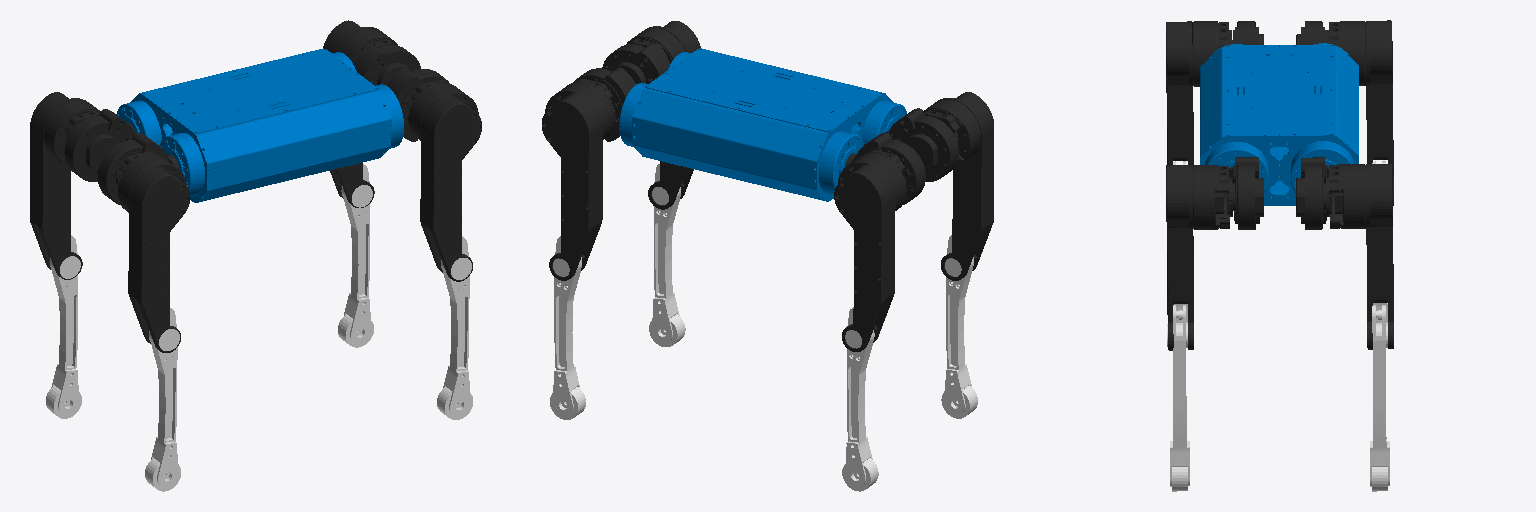
robot.urdf — canineV4:
<?xml version="1.0" ?>
<robot name="canineV4">
  
  <material name="blue">
    <color rgba="0.0 0.5 0.8 0.9"/>
  </material>
  
  <material name="black1">
    <color rgba="0.2 0.2 0.2 1"/>
  </material>
  
  <material name="white">
    <color rgba="0.9 0.9 0.9 0.5"/>
  </material>

  <link name="base">
    <visual>
      <origin rpy="0 0 0" xyz="0 0 0"/>
      <geometry>
        <box size="0.001 0.001 0.001"/>
      </geometry>
    </visual>
  </link>

  <joint name="floating_base" type="fixed">
    <origin rpy="0 0 0" xyz="0 0 0"/>
    <parent link="base"/>
    <child link="trunk"/>
  </joint>

  <link name="trunk">
    <inertial>
      <origin xyz="0.014339238801855274 0.0005227403404208719 -0.0014269636674238235" rpy="0 0 0"/>
      <mass value = "7.293"/>
      <inertia ixx = "0.0414613" ixy = "0" ixz = "0" iyx = "0" iyy = "0.0956574" iyz = "0" izx = "0" izy = "0" izz = "0.121322"/>
    </inertial>
    <visual>
      <origin xyz="0 0 0" rpy="0 0 0"/>
      <geometry>
        <mesh filename="../meshes/base_link.stl" scale="0.001 0.001 0.001"/>
      </geometry>
      <material name="blue"/>
    </visual>
    <collision>
      <origin xyz="0 0 -0.011" rpy="0 0 0"/>
      <geometry>
        <box size= "0.38 0.235 0.131"/>
      </geometry>
    </collision>
  </link>
  
<!--Front Left-->
  <link name="FL_hip">
    <inertial>
      <origin xyz="0.058975220413676505 -0.016130924422260128 -9.470708630414767e-05" rpy="0 0 0"/>
      <mass value = "0.7498"/>
      <inertia ixx = "0.000564293" iyy = "0.00108156" izz = "0.000706237" ixy = "3.9187e-05" iyz = "2.61247e-06" ixz = "0"/>
    </inertial>
    <visual>
      <origin xyz="-0.185613 -0.065216 -0.000494" rpy="0 0 0"/>
      <geometry>
        <mesh filename="../meshes/FL_Hip_1.stl" scale="0.001 0.001 0.001"/>
      </geometry>
      <material name="black1"/>
    </visual>
    <collision>
      <origin xyz="-0.185613 -0.065216 -0.000494" rpy="0 0 0"/>
      <geometry>
        <mesh filename="../meshes/FL_Hip_1.obj" scale="0.001 0.001 0.001"/>
      </geometry>
    </collision>
  </link>

  <link name="FL_thigh">
    <inertial>
      <origin xyz="-0.005295476492297502 0.055863741051553104 -0.02739556562567192" rpy="0 0 0"/>
      <mass value = "1.6223"/>
      <inertia ixx = "0.00754088" iyy = "0.00733144" izz = "0.00206749" ixy = "0.000208444" iyz = "0.0013115" ixz = "-0.000668218"/>
    </inertial>
    <visual>
      <origin xyz="-0.256107 -0.058095 -0.000475" rpy="0 0 0"/>
      <geometry>
        <mesh filename="../meshes/FL_thigh_1.stl" scale="0.001 0.001 0.001"/>
      </geometry>
      <material name="black1"/>
    </visual>
    <collision>
      <origin xyz="0 0.084 -0.23" rpy="1.57079632679 0 0"/>
      <geometry>
        <cylinder length="0.019" radius="0.015"/>
      </geometry>
    </collision>
  </link>

  <link name="FL_calf">
    <inertial>
      <origin xyz="0.00031304711228058446 0.018663901688305173 -0.11805864385255102" rpy="0 0 0"/>
      <mass value = "0.4049"/>
      <inertia ixx = "0.00415323" iyy = "0.00417183" izz = "7.25698e-05" ixy = "9.30382e-07" iyz = "2.51203e-05" ixz = "-7.44306e-05"/>
    </inertial>
    <visual>
      <origin xyz="0.256221 0.1424 0.230545" rpy="0 0 0"/>
      <geometry>
        <mesh filename="../meshes/HR_calf_1.stl" scale="0.001 0.001 0.001"/>
      </geometry>
      <material name="white"/>
    </visual>
    <collision>
      <origin xyz="0 0 -0.23" rpy="1.57079632679 0 0"/>
      <geometry>
        <cylinder length="0.024" radius="0.025"/>
      </geometry>
    </collision>
  </link>
  
<!--  Front Right -->
  <link name="FR_hip">
    <inertial>
      <origin xyz="0.059030654145396516 0.015927423670200135 9.247774957795986e-05" rpy="0 0 0"/>
      <mass value = "0.7498"/>
      <inertia ixx = "0.000564293" iyy = "0.00108156" izz = "0.000706237" ixy = "3.9187e-05" iyz = "2.61247e-06" ixz = "0"/>
    </inertial>
    <visual>
      <origin xyz="-0.185389 0.06478 0.000488" rpy="0 0 0"/>
      <geometry>
        <mesh filename="../meshes/FR_Hip_1.stl" scale="0.001 0.001 0.001"/>
      </geometry>
      <material name="black1"/>
    </visual>
    <collision>
      <origin xyz="-0.185389 0.06478 0.000488" rpy="0 0 0"/>
      <geometry>
        <mesh filename="../meshes/FR_Hip_1.obj" scale="0.001 0.001 0.001"/>
      </geometry>
    </collision>
  </link>
  
  <link name="FR_thigh">
    <inertial>
      <origin xyz="-0.0054874276469241146 -0.055519109948595644 -0.028025753197478204" rpy="0 0 0"/>
      <mass value = "1.6223"/>
      <inertia ixx = "0.00754088" iyy = "0.00733144" izz = "0.00206749" ixy = "0.000208444" iyz = "0.0013115" ixz = "-0.000668218"/>
    </inertial>
    <visual>
      <origin xyz="-0.255894 0.057902 0.000472" rpy="0 0 0"/>
      <geometry>
        <mesh filename="../meshes/FR_thigh_1.stl" scale="0.001 0.001 0.001"/>
      </geometry>
      <material name="black1"/>
    </visual>
    <collision>
      <origin xyz="0 -0.084 -0.23" rpy="1.57079632679 0 0"/>
      <geometry>
        <cylinder length="0.019" radius="0.015"/>
      </geometry>
    </collision>
  </link>
  
  <link name="FR_calf">
    <inertial>
      <origin xyz="-0.0018108281142471538 -0.017331701500681695 -0.11825587817029126" rpy="0 0 0"/>
      <mass value = "0.4049"/>
      <inertia ixx = "0.00415323" iyy = "0.00417183" izz = "7.25698e-05" ixy = "9.30382e-07" iyz = "2.51203e-05" ixz = "-7.44306e-05"/>

    </inertial>
    <visual>
      <origin xyz="0.256221 0.1424 0.230545" rpy="0 0 0"/>
      <geometry>
        <mesh filename="../meshes/HR_calf_1.stl" scale="0.001 0.001 0.001"/>
      </geometry>
      <material name="white"/>
    </visual>
    <collision>
      <origin xyz="0 0 -0.23" rpy="1.57079632679 0 0"/>
      <geometry>
        <cylinder length="0.024" radius="0.025"/>
      </geometry>
    </collision>
  </link>
 
<!--  Hind Left-->
  <link name="HL_hip">
    <inertial>
      <origin xyz="-0.05903082809440047 -0.01592734296849691 -9.238738722284502e-05" rpy="0 0 0"/>
      <mass value = "0.7498"/>
      <inertia ixx = "0.000564293" iyy = "0.00108156" izz = "0.000706237" ixy = "3.9187e-05" iyz = "2.61247e-06" ixz = "0"/>
    </inertial>
    <visual>
      <origin xyz="0.185387 -0.065854 -0.000501" rpy="0 0 0"/>
      <geometry>
        <mesh filename="../meshes/HL_Hip_1.stl" scale="0.001 0.001 0.001"/>
      </geometry>
      <material name="black1"/>
    </visual>
    <collision>
      <origin xyz="0.185387 -0.065854 -0.000501" rpy="0 0 0"/>
      <geometry>
        <mesh filename="../meshes/HL_Hip_1.obj" scale="0.001 0.001 0.001"/>
      </geometry>
    </collision>
  </link>

  <link name="HL_thigh">
    <inertial>
      <origin xyz="-0.0043479246699852925 0.055862527145962446 -0.027440966657779627" rpy="0 0 0"/>
      <mass value = "1.6223"/>
      <inertia ixx = "0.00754088" iyy = "0.00733144" izz = "0.00206749" ixy = "0.000208444" iyz = "0.0013115" ixz = "-0.000668218"/>
    </inertial>
    <visual>
      <origin xyz="0.255892 -0.058976 -0.000485" rpy="0 0 0"/>
      <geometry>
        <mesh filename="../meshes/HL_thigh_1.stl" scale="0.001 0.001 0.001"/>
      </geometry>
      <material name="black1"/>
    </visual>
    <collision>
      <origin xyz="0 0.084 -0.23" rpy="1.57079632679 0 0"/>
      <geometry>
        <cylinder length="0.019" radius="0.015"/>
      </geometry>
    </collision>
  </link>
  
  <link name="HL_calf">
    <inertial>
      <origin xyz="0.004436553462955517 0.018656478060602333 -0.11797708805343396" rpy="0 0 0"/>
      <mass value = "0.4049"/>
      <inertia ixx = "0.00415323" iyy = "0.00417183" izz = "7.25698e-05" ixy = "9.30382e-07" iyz = "2.51203e-05" ixz = "-7.44306e-05"/>
    </inertial>
    <visual>
      <origin xyz="0.256221 0.1424 0.230545" rpy="0 0 0"/>
      <geometry>
        <mesh filename="../meshes/HR_calf_1.stl" scale="0.001 0.001 0.001"/>
      </geometry>
      <material name="white"/>
    </visual>
    <collision>
      <origin xyz="0 0 -0.23" rpy="1.57079632679 0 0"/>
      <geometry>
        <cylinder length="0.024" radius="0.025"/>
      </geometry>
    </collision>
  </link>
  
<!--  Hind Right -->
  <link name="HR_hip">
    <inertial>
      <origin xyz="-0.05897539437436458 0.016131005161887584 9.480463785772582e-05" rpy="0 0 0"/>
      <mass value = "0.7498"/>
      <inertia ixx = "0.000564293" iyy = "0.00108156" izz = "0.000706237" ixy = "3.9187e-05" iyz = "2.61247e-06" ixz = "0"/>
    </inertial>
    <visual>
      <origin xyz="0.185611 0.064142 0.000481" rpy="0 0 0"/>
      <geometry>
        <mesh filename="../meshes/HR_Hip_1.stl" scale="0.001 0.001 0.001"/>
      </geometry>
      <material name="black1"/>
    </visual>
    <collision>
      <origin xyz="0.185611 0.064142 0.000481" rpy="0 0 0"/>
      <geometry>
        <mesh filename="../meshes/HR_Hip_1.obj" scale="0.001 0.001 0.001"/>
      </geometry>
    </collision>
  </link>
  
  <link name="HR_thigh">
    <inertial>
      <origin xyz="-0.004502314615021097 -0.05548927838716084 -0.027817895991566484" rpy="0 0 0"/>
      <mass value = "1.6223"/>
      <inertia ixx = "0.00754088" iyy = "0.00733144" izz = "0.00206749" ixy = "0.000208444" iyz = "0.0013115" ixz = "-0.000668218"/>
    </inertial>
    <visual>
      <origin xyz="0.256105 0.05702 0.000462" rpy="0 0 0"/>
      <geometry>
        <mesh filename="../meshes/HR_thigh_1.stl" scale="0.001 0.001 0.001"/>
      </geometry>
      <material name="black1"/>
    </visual>
    <collision>
      <origin xyz="0 -0.084 -0.23" rpy="1.57079632679 0 0"/>
      <geometry>
        <cylinder length="0.024" radius="0.025"/>
      </geometry>
    </collision>
  </link>
  
  <link name="HR_calf">
    <inertial>
      <origin xyz="0.002302575792990591 -0.017335752937394422 -0.11753324247330965" rpy="0 0 0"/>
      <mass value = "0.3639"/>
      <inertia ixx = "0.00373267" iyy = "0.0037494" izz = "6.52214e-05" ixy = "8.36172e-07" iyz = "2.25766e-05" ixz = "-6.68938e-05"/>
    </inertial>
    <visual>
      <origin xyz="0.256221 0.1424 0.230545" rpy="0 0 0"/>
      <geometry>
        <mesh filename="../meshes/HR_calf_1.stl" scale="0.001 0.001 0.001"/>
      </geometry>
      <material name="white"/>
    </visual>
    <collision>
      <origin xyz="0 0 -0.23" rpy="1.57079632679 0 0"/>
      <geometry>
        <cylinder length="0.024" radius="0.025"/>
      </geometry>
    </collision>
  </link>
  
<!--  joint -->
  <joint name="FL_HIP" type="revolute">
    <origin xyz="0.185 0.065 0.0" rpy="0 0 0"/>
    <parent link="trunk"/>
    <child link="FL_hip"/>
    <axis xyz="1 0 0"/>
  </joint>
  
  <joint name="FL_THIGH" type="revolute">
    <origin xyz="0.07 -0.003 0.0" rpy="0 0 0"/>
    <parent link="FL_hip"/>
    <child link="FL_thigh"/>
    <axis xyz="0 1 0"/>
  </joint>
  
  <joint name="FL_KNEE" type="revolute">
    <origin xyz="0 0.088 -0.23" rpy="0 0 0"/>
    <parent link="FL_thigh"/>
    <child link="FL_calf"/>
    <axis xyz="0 1 0"/>
  </joint>
  
  <joint name="FR_HIP" type="revolute">
    <origin xyz="0.185 -0.065 0.0" rpy="0 0 0"/>
    <parent link="trunk"/>
    <child link="FR_hip"/>
    <axis xyz="1 0 0"/>
  </joint>
  
  <joint name="FR_THIGH" type="revolute">
    <origin xyz="0.07 0.003 0.0" rpy="0 0 0"/>
    <parent link="FR_hip"/>
    <child link="FR_thigh"/>
    <axis xyz="0 1 0"/>
  </joint>
  
  <joint name="FR_KNEE" type="revolute">
    <origin xyz="0 -0.088 -0.23" rpy="0 0 0"/>
    <parent link="FR_thigh"/>
    <child link="FR_calf"/>
    <axis xyz="0 1 0"/>
  </joint>
  
  <joint name="HL_HIP" type="revolute">
    <origin xyz="-0.185 0.065 0.0" rpy="0 0 0"/>
    <parent link="trunk"/>
    <child link="HL_hip"/>
    <axis xyz="1 0 0"/>
  </joint>
  
  <joint name="HL_THIGH" type="revolute">
    <origin xyz="-0.07 -0.003 0.0" rpy="0 0 0"/>
    <parent link="HL_hip"/>
    <child link="HL_thigh"/>
    <axis xyz="0 1 0"/>
  </joint>
  
  <joint name="HL_KNEE" type="revolute">
    <origin xyz="0 0.088 -0.23" rpy="0 0 0"/>
    <parent link="HL_thigh"/>
    <child link="HL_calf"/>
    <axis xyz="0 1 0"/>
  </joint>

  <joint name="HR_HIP" type="revolute">
    <origin xyz="-0.185 -0.065 0.0" rpy="0 0 0"/>
    <parent link="trunk"/>
    <child link="HR_hip"/>
    <axis xyz="1 0 0"/>
  </joint>

  <joint name="HR_THIGH" type="revolute">
    <origin xyz="-0.07 0.003 0.0" rpy="0 0 0"/>
    <parent link="HR_hip"/>
    <child link="HR_thigh"/>
    <axis xyz="0 1 0"/>
  </joint>

  <joint name="HR_KNEE" type="revolute">
    <origin xyz="0 -0.088 -0.23" rpy="0 0 0"/>
    <parent link="HR_thigh"/>
    <child link="HR_calf"/>
    <axis xyz="0 1 0"/>
  </joint>
</robot>

--- Render facts (derived) ---
Views: 3 orthographic renders of the robot side by side, from view 1: azimuth 30°, elevation 25°; view 2: azimuth 150°, elevation 25°; view 3: azimuth 270°, elevation 25°.
Robot: canineV4 — 14 links, 13 joints (12 revolute, 1 fixed); root link base; default pose: all joints at 0.
Visible links, largest first — view 1: trunk, FR_thigh, HR_thigh, HL_thigh, FL_calf, HL_calf, FR_calf, HR_calf, HL_hip, FL_thigh, FL_hip, HR_hip (+1 smaller); view 2: trunk, FL_thigh, HL_thigh, HR_thigh, FL_calf, HL_calf, HR_calf, FR_calf, HR_hip, FR_thigh, FR_hip, HL_hip (+1 smaller); view 3: trunk, FR_thigh, FL_thigh, HR_thigh, HL_thigh, FR_calf, FL_calf, FR_hip, FL_hip, HR_hip, HL_hip.
Boxes of the visible links, x1,y1,x2,y2 form: trunk: (116, 48, 403, 202); FR_thigh: (408, 80, 481, 281); HR_thigh: (114, 151, 189, 352); HL_thigh: (30, 92, 100, 279); FL_calf: (338, 164, 373, 347); HL_calf: (46, 235, 81, 418); FR_calf: (437, 236, 472, 419); HR_calf: (145, 308, 180, 491); HL_hip: (64, 109, 136, 181); FL_thigh: (323, 20, 397, 207); FL_hip: (353, 44, 420, 85); HR_hip: (98, 133, 178, 204); trunk: (619, 48, 906, 201); FL_thigh: (542, 79, 615, 280); HL_thigh: (834, 150, 909, 351); HR_thigh: (923, 92, 993, 280); FL_calf: (550, 236, 585, 419); HL_calf: (842, 307, 878, 491); HR_calf: (941, 235, 977, 418); FR_calf: (649, 164, 685, 346); HR_hip: (886, 108, 958, 181); FR_thigh: (626, 21, 700, 209); FR_hip: (602, 43, 669, 83); HL_hip: (845, 132, 925, 204); trunk: (1200, 43, 1358, 205); FR_thigh: (1166, 165, 1235, 350); FL_thigh: (1324, 164, 1393, 349); HR_thigh: (1166, 21, 1232, 164); HL_thigh: (1327, 20, 1393, 205); FR_calf: (1167, 305, 1189, 491); FL_calf: (1370, 305, 1389, 491); FR_hip: (1229, 157, 1263, 229); FL_hip: (1296, 157, 1328, 229); HR_hip: (1233, 21, 1263, 44); HL_hip: (1296, 21, 1326, 44).
Bounding box of the posed robot: 0.6091 × 0.343 × 0.544 m (x, y, z).
13 mesh visuals loaded from 10 distinct referenced files (10 binary STL).